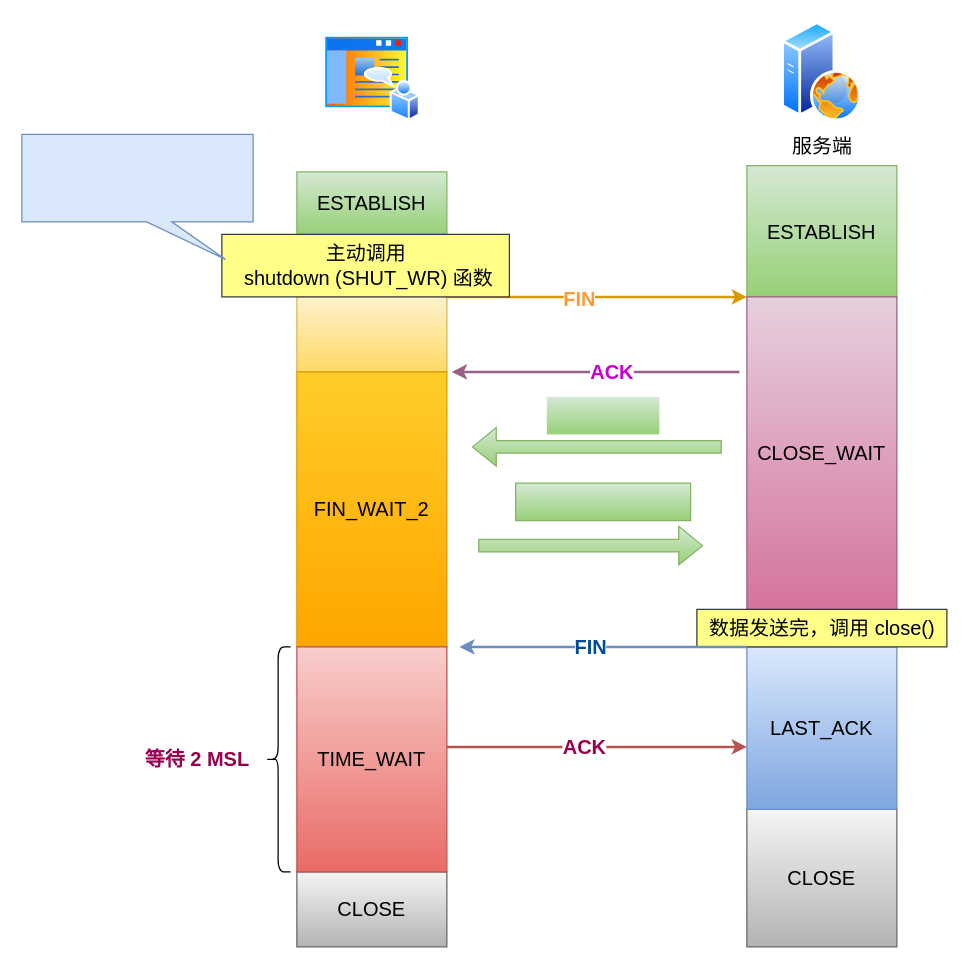
This 969x969 diagram has some shape labels left out. Here are the shapes that lost their labels. From the top down, the centre of each, then its label:
At pixel 371 77: "客户端".
At pixel 137 196: "我没有发送能力，但是我还有读取数据的能力！".
At pixel 371 334: "FIN_WAIT_1".
At pixel 602 415: "发送数据".
At pixel 602 501: "确认数据的 ACK".
